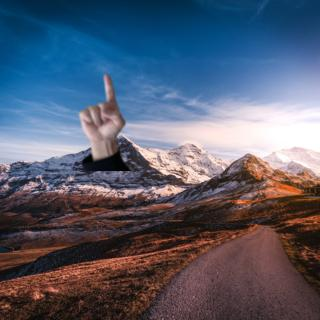IRRITATED: (75, 71, 129, 142)
